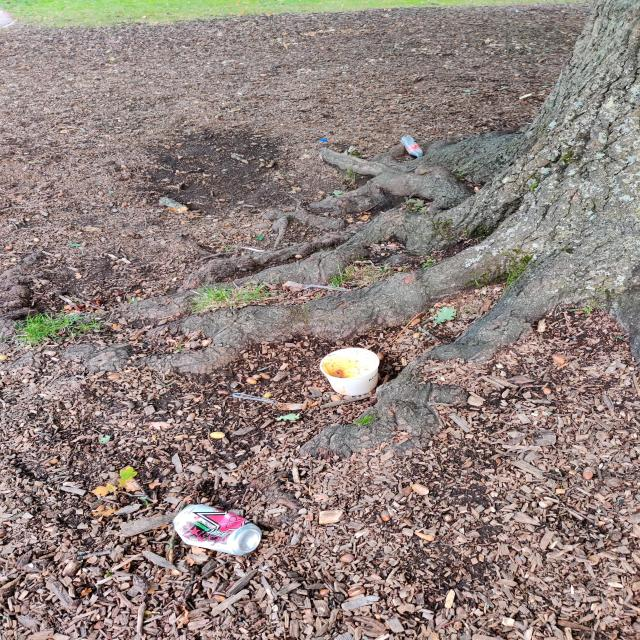litter: (172, 504, 263, 556), (320, 348, 379, 396), (232, 393, 305, 410), (284, 281, 346, 292), (401, 135, 422, 159)
